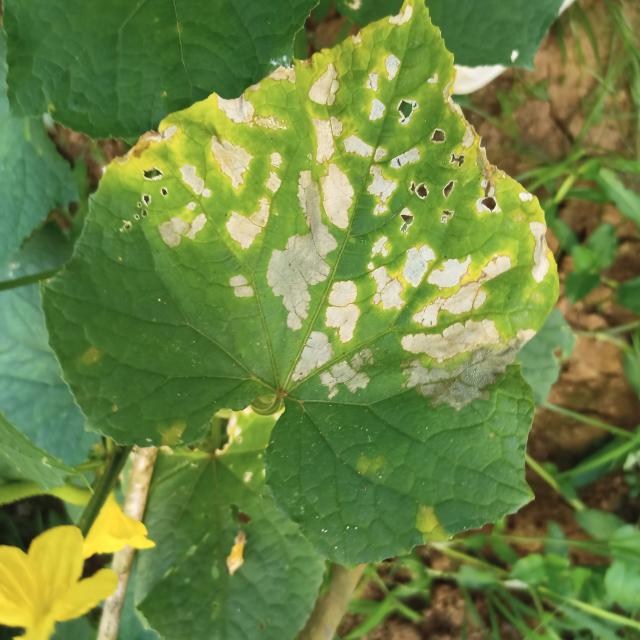disease_cucumber: (155, 15, 559, 405), (406, 498, 458, 550)
